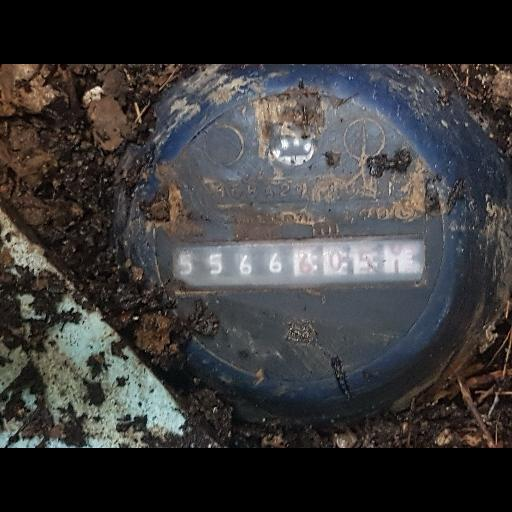0: (382, 239, 411, 276), (324, 244, 347, 276)
5: (353, 242, 378, 276), (205, 247, 228, 279), (175, 248, 197, 280)
6: (292, 244, 319, 278), (234, 246, 257, 279), (265, 245, 286, 278)
border_water_meter_number: (172, 233, 426, 291)
